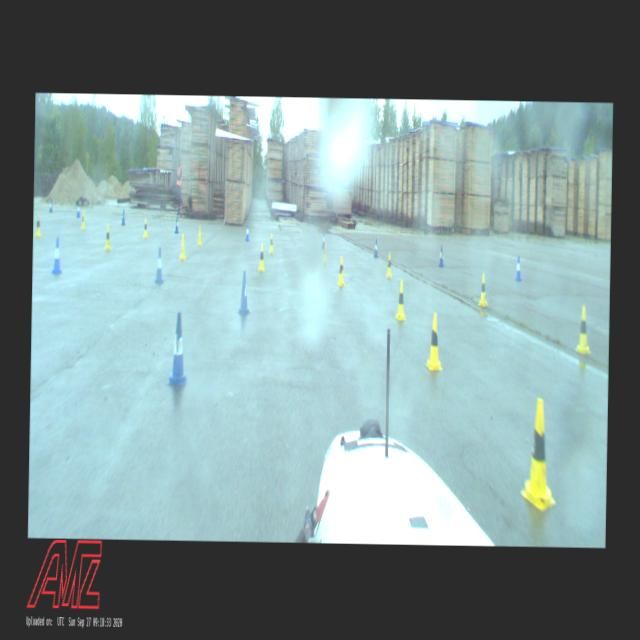blue_cone: (166, 312, 188, 386), (237, 270, 250, 314), (51, 237, 62, 273), (154, 246, 164, 283), (514, 256, 522, 281), (438, 246, 443, 266), (121, 209, 126, 225), (374, 238, 378, 256), (321, 230, 325, 248), (246, 223, 250, 240), (174, 216, 178, 233), (48, 200, 52, 213), (76, 204, 80, 217)
yellow_cone: (519, 396, 557, 512), (425, 313, 443, 372), (576, 305, 592, 354), (394, 279, 406, 320), (477, 272, 488, 306), (336, 256, 346, 286), (257, 242, 265, 271), (179, 232, 186, 260), (104, 224, 110, 250), (386, 252, 392, 277), (34, 214, 40, 238), (142, 216, 148, 238), (269, 233, 274, 253), (197, 225, 202, 245), (323, 240, 327, 264), (80, 211, 85, 229)
